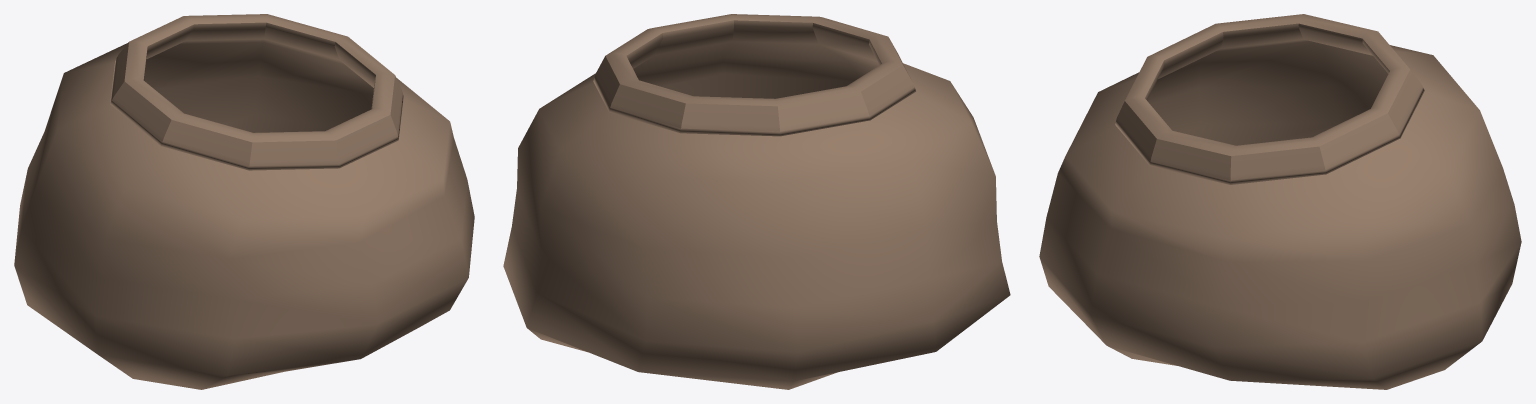
File: SacLegumeOuvert.fbx
The picture shows the model from 3 angles, left to right: view 1: azimuth 30°, elevation 25°; view 2: azimuth 150°, elevation 25°; view 3: azimuth 270°, elevation 25°; orthographic projection. The views are drawn at different scales.
Parts seen in each view (by area): view 1: polySurface1227; view 2: polySurface1227; view 3: polySurface1227.
Boxes of the visible parts, x1,y1,x2,y2 form: polySurface1227: [14, 14, 474, 389]; polySurface1227: [503, 14, 1010, 389]; polySurface1227: [1039, 14, 1521, 389].
Size of the model in its own units: 0.4311 by 0.2557 by 0.4472.
